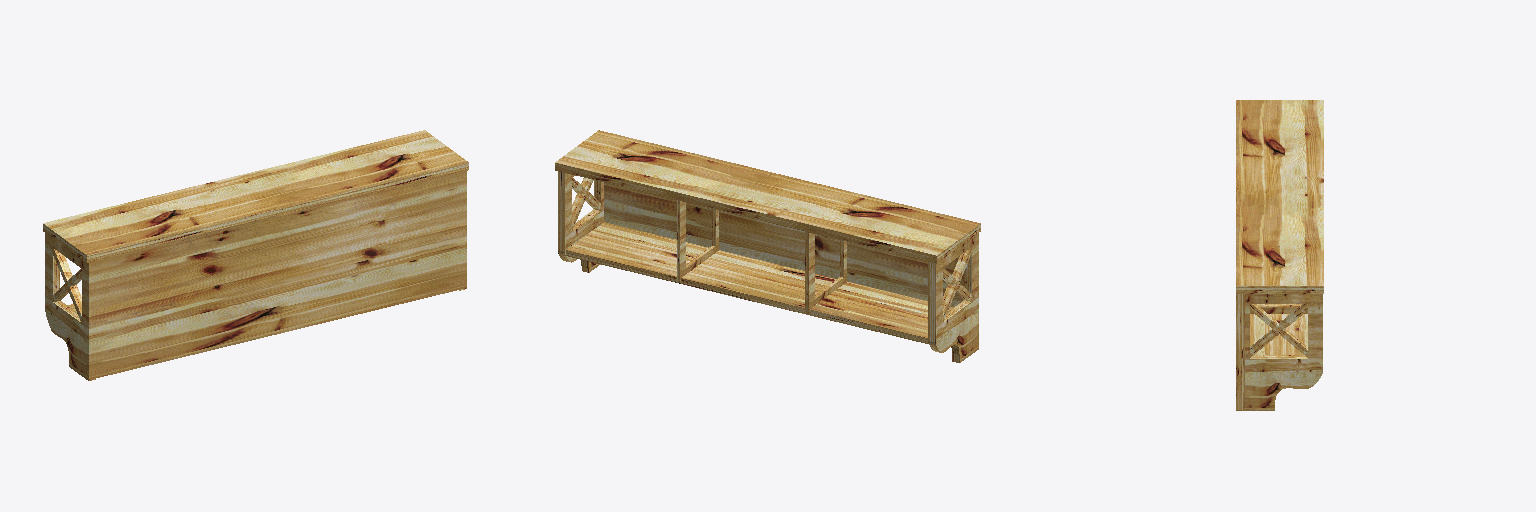
3 renders of one model, left to right at view 1: azimuth 30°, elevation 25°; view 2: azimuth 150°, elevation 25°; view 3: azimuth 270°, elevation 25°, orthographic.
Parts seen in each view (by area): view 1: Box23, Box17, Line30, Box20; view 2: Box17, Box22, Box23, Line30, Line05, Box27, Box26, Box21; view 3: Box17, Line05, Box22, Box23, Box19, Box18.
Boxes of the visible parts, <box> form: Box23: <box>89,169,466,379</box>; Box17: <box>43,130,468,262</box>; Line30: <box>45,233,95,380</box>; Box20: <box>53,248,81,322</box>; Box17: <box>555,130,980,263</box>; Box22: <box>566,222,953,343</box>; Box23: <box>604,183,963,306</box>; Line30: <box>928,233,978,362</box>; Line05: <box>558,171,603,272</box>; Box27: <box>805,232,846,313</box>; Box26: <box>677,200,718,281</box>; Box21: <box>943,247,971,321</box>; Box17: <box>1236,100,1323,293</box>; Line05: <box>1236,294,1322,410</box>; Box22: <box>1250,304,1307,354</box>; Box23: <box>1236,294,1244,409</box>; Box19: <box>1250,304,1307,357</box>; Box18: <box>1250,304,1307,357</box>.
Bounding box in the file's own units: 1.08 × 0.3407 × 0.2167.
Materials: 2 (1 with a texture image).